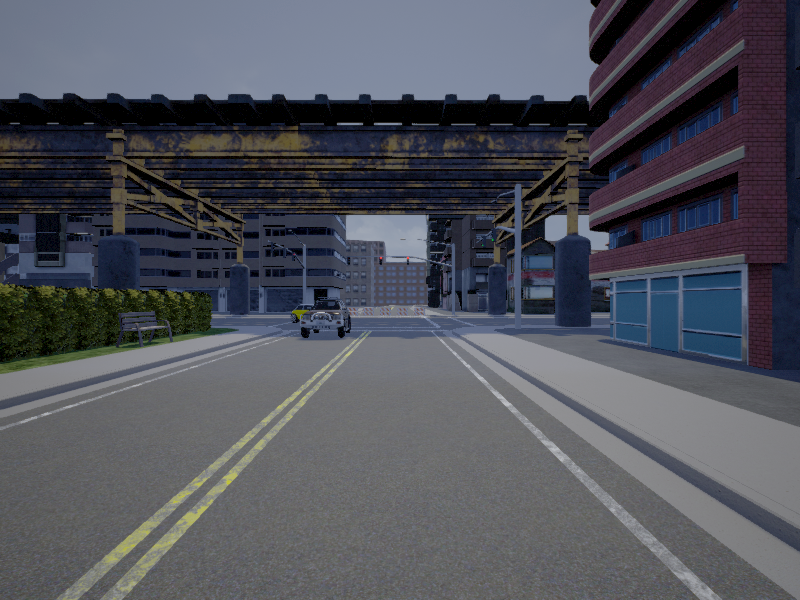Benign: (303, 297, 351, 340), (288, 306, 313, 322)
